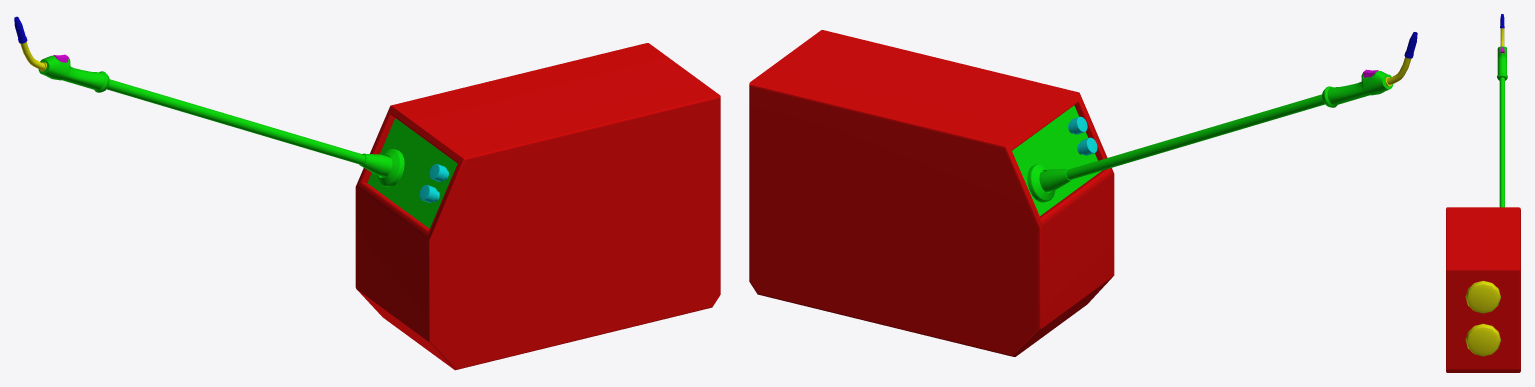
The model's file is WeldingMachine_Strong_Hannah.fbx.
3 views of the same model, side by side, from view 1: azimuth 30°, elevation 25°; view 2: azimuth 150°, elevation 25°; view 3: azimuth 270°, elevation 25° (orthographic). The views are drawn at different scales.
Visible parts, largest first — view 1: WeldMachine; view 2: WeldMachine; view 3: WeldMachine.
Part boxes in pixels (x1,y1,x2,y2): WeldMachine: (14,16,720,370); WeldMachine: (749,30,1417,356); WeldMachine: (1446,14,1520,372).
Bounding box in the file's own units: 1.7 × 0.9963 × 0.3323.
